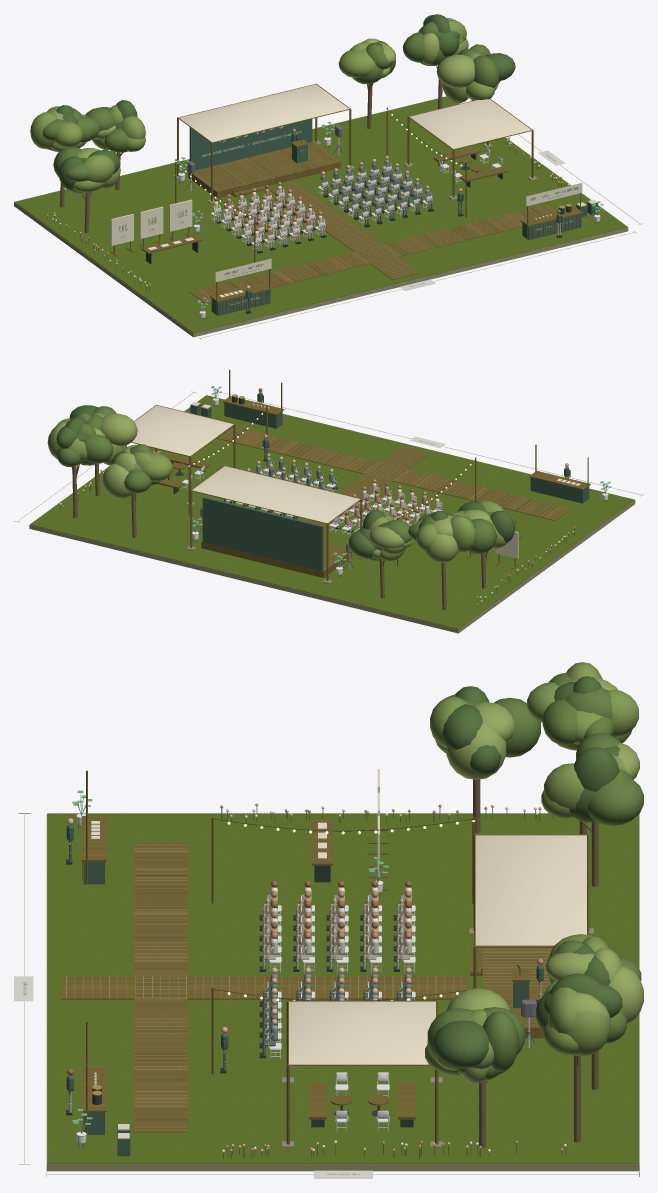
Rendered from lawn.glb.
3 views of the same model, one above another, from view 1: azimuth 30°, elevation 25°; view 2: azimuth 150°, elevation 25°; view 3: azimuth 270°, elevation 25° (orthographic). The views are drawn at different scales.
Parts seen in each view (by area): view 1: GrassSurface_2, CrossWalkway_1_8m_4, CanvasCanopy_182, Stage_8m_by_3_2m_131, CanvasCanopy_195, CentralWalkway_1_8m_3, Ground_28m_by_20m_1, Sign_166, TreeCrown_433, TreeCrown_381, TreeCrown_415, TreeCrown_437 (+12 smaller); view 2: GrassSurface_2, MainBackdrop_165, CrossWalkway_1_8m_4, CanvasCanopy_182, CanvasCanopy_195, Ground_28m_by_20m_1, CentralWalkway_1_8m_3, Stage_8m_by_3_2m_131, TreeCrown_433, ServiceCounter_200, ServiceCounter_226, TreeCrown_374 (+12 smaller); view 3: GrassSurface_2, CrossWalkway_1_8m_4, CanvasCanopy_182, CanvasCanopy_195, CentralWalkway_1_8m_3, Ground_28m_by_20m_1, Stage_8m_by_3_2m_131, TreeCrown_448, TreeCrown_345, TreeCrown_445, TreeCrown_422, TreeCrown_348 (+19 smaller).
Boxes of the visible parts, x1,y1,x2,y2 form: GrassSurface_2: (14, 96, 627, 333); CrossWalkway_1_8m_4: (190, 204, 555, 303); CanvasCanopy_182: (179, 84, 349, 142); Stage_8m_by_3_2m_131: (188, 141, 341, 197); CanvasCanopy_195: (409, 99, 531, 148); CentralWalkway_1_8m_3: (270, 183, 419, 279); Ground_28m_by_20m_1: (14, 202, 628, 337); Sign_166: (193, 119, 309, 166); TreeCrown_433: (436, 54, 474, 88); TreeCrown_381: (338, 50, 375, 78); TreeCrown_415: (82, 154, 114, 182); TreeCrown_437: (473, 55, 498, 87); GrassSurface_2: (30, 395, 634, 629); MainBackdrop_165: (202, 497, 323, 570); CrossWalkway_1_8m_4: (216, 426, 570, 520); CanvasCanopy_182: (192, 466, 360, 523); CanvasCanopy_195: (132, 405, 233, 455); Ground_28m_by_20m_1: (29, 500, 635, 633); CentralWalkway_1_8m_3: (301, 446, 430, 531); Stage_8m_by_3_2m_131: (201, 541, 351, 577); TreeCrown_433: (100, 413, 137, 446); ServiceCounter_200: (530, 477, 589, 503); ServiceCounter_226: (224, 403, 282, 428); TreeCrown_374: (102, 463, 132, 498); GrassSurface_2: (47, 813, 638, 1164); CrossWalkway_1_8m_4: (134, 843, 187, 1132); CanvasCanopy_182: (475, 835, 586, 945); CanvasCanopy_195: (289, 1001, 435, 1064); CentralWalkway_1_8m_3: (61, 976, 467, 999); Ground_28m_by_20m_1: (46, 814, 639, 1171); Stage_8m_by_3_2m_131: (482, 947, 552, 1038); TreeCrown_448: (433, 1020, 489, 1068); TreeCrown_345: (587, 779, 643, 825); TreeCrown_445: (482, 1011, 518, 1071); TreeCrown_422: (494, 698, 540, 757); TreeCrown_348: (574, 747, 619, 791).
Bounding box in the file's own units: 29.47 × 6.44 × 21.25.
50 materials, 13 textured.
